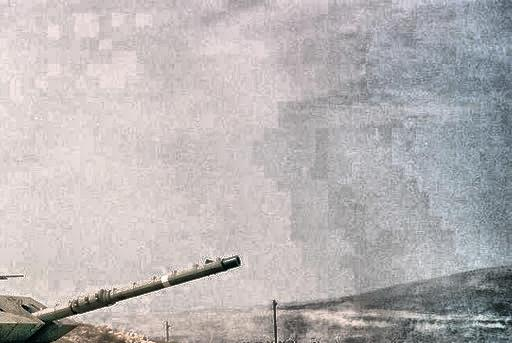tanks: (1, 257, 241, 343)
